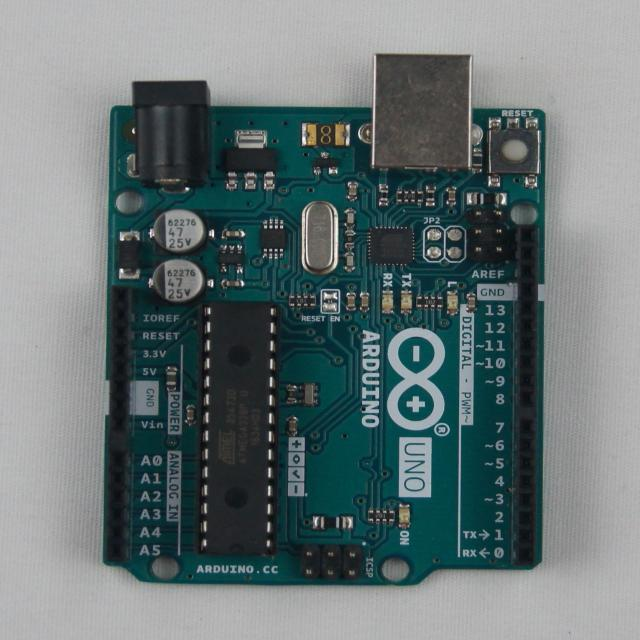Arduino Uno -Green-: (107, 55, 546, 585)
